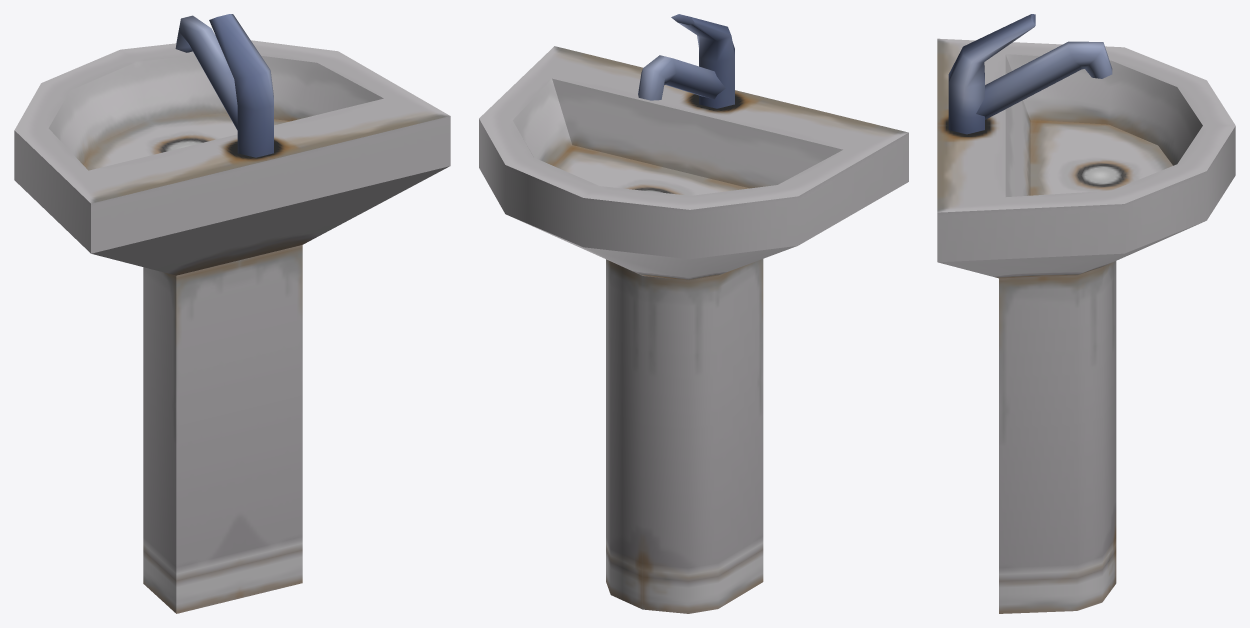
The model's file is KTB0110008.fbx.
3 views of the same model, side by side, from view 1: azimuth 30°, elevation 25°; view 2: azimuth 150°, elevation 25°; view 3: azimuth 270°, elevation 25° (orthographic).
Parts seen in each view (by area): view 1: smKTB0110008; view 2: smKTB0110008; view 3: smKTB0110008.
Part boxes in pixels (left/top/right/bottom): smKTB0110008: left=14, top=14, right=450, bottom=613; smKTB0110008: left=479, top=14, right=908, bottom=613; smKTB0110008: left=937, top=14, right=1235, bottom=613.
Size of the model in its own units: 73.35 by 111 by 53.21.
1 material, 1 textured.
